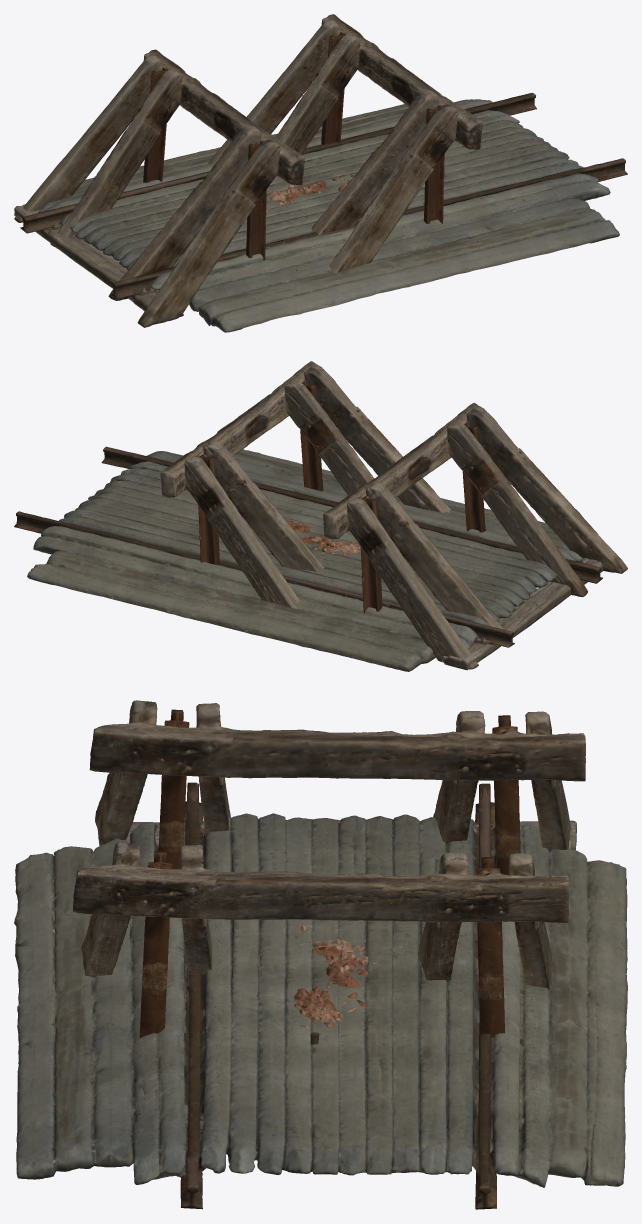
The model's file is MineAlt_Boden.glb.
3 renders of one model, top to bottom at view 1: azimuth 30°, elevation 25°; view 2: azimuth 150°, elevation 25°; view 3: azimuth 270°, elevation 25°, orthographic. The views are drawn at different scales.
Parts seen in each view (by area): view 1: verladung, bohlenboden, rampe, geroell_a; view 2: verladung, bohlenboden, rampe, geroell_a; view 3: verladung, bohlenboden, rampe, geroell_a.
Part boxes in pixels (x1,y1,x2,y2): verladung: (14,49,627,332); bohlenboden: (21,93,627,332); rampe: (207,14,482,272); geroell_a: (266,174,354,213); verladung: (14,402,627,671); bohlenboden: (14,446,602,671); rampe: (160,361,450,608); geroell_a: (284,515,360,562); verladung: (14,700,627,1209); bohlenboden: (14,782,627,1209); rampe: (73,842,569,1037); geroell_a: (278,924,380,1029).
Size of the model in its own units: 5 by 1.36 by 3.21.
Materials: 9 (9 with a texture image).
